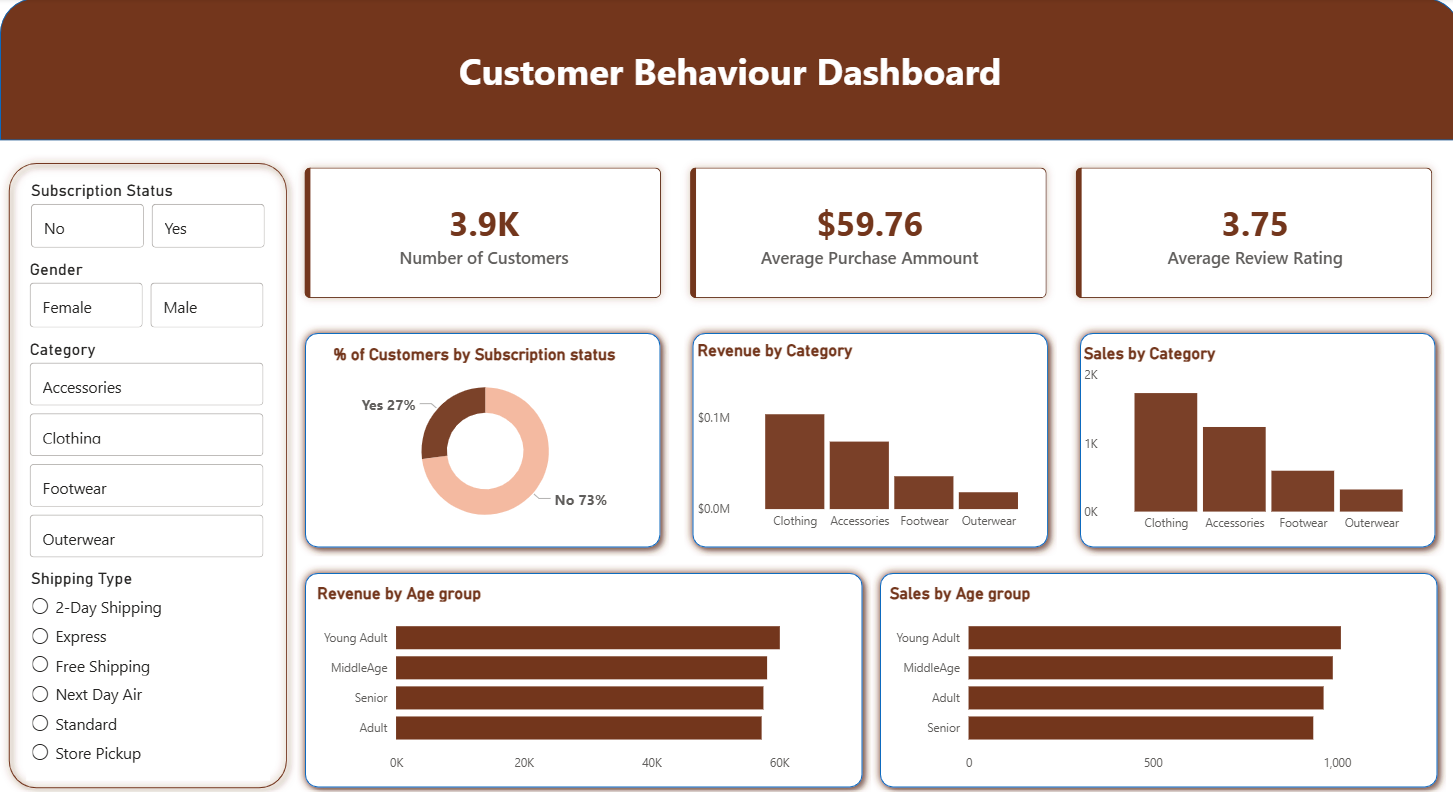

The dashboard page shown, as its layout file describes it:
{"tool":"powerbi","page":{"name":"Page 1","canvas":[1500,820],"ordinal":0},"visuals":[{"type":"cardVisual","fields":{"Data":["customer_shopping_cleaned.Number of Customers","customer_shopping_cleaned.Average Purchase Ammount","customer_shopping_cleaned.Average Review Rating"]},"box":[285.5,146.2,1214.4,190.8],"z":0},{"type":"shape","box":[0,0,1499.9,146.2],"z":1000},{"type":"textbox","box":[0,44.6,1499.9,91.9],"z":2000},{"type":"shape","box":[701.9,335.6,383,238.1],"z":3000},{"type":"shape","box":[303.6,335.6,383,238.1],"z":4000},{"type":"donutChart","title":"% of Customers by Subscription status","fields":{"Category":["customer_shopping_cleaned.Subscription Status"],"Y":["CountNonNull(customer_shopping_cleaned.Customer ID)"]},"box":[337,355.1,321.7,200.5],"z":5000},{"type":"clusteredColumnChart","title":"Revenue by Category","fields":{"Y":["Sum(customer_shopping_cleaned.Purchase Amount (USD))"],"Category":["customer_shopping_cleaned.Category"]},"box":[715.8,352.3,356.5,203.3],"z":6000},{"type":"shape","box":[1100.2,335.6,383,238.1],"z":7000},{"type":"clusteredColumnChart","title":"Sales by Category","fields":{"Y":["CountNonNull(customer_shopping_cleaned.Customer ID)"],"Category":["customer_shopping_cleaned.Category"]},"box":[1112.7,353.7,356.5,203.3],"z":8000},{"type":"shape","box":[0,160.2,303.6,660.1],"z":9000},{"type":"advancedSlicerVisual","fields":{"Values":["customer_shopping_cleaned.Subscription Status"]},"box":[26.5,188,250,75],"z":10000},{"type":"advancedSlicerVisual","fields":{"Values":["customer_shopping_cleaned.Gender"]},"box":[25.1,268.8,250.7,75.2],"z":11000},{"type":"advancedSlicerVisual","fields":{"Values":["customer_shopping_cleaned.Category"]},"box":[25.1,351,250.7,229.8],"z":12000},{"type":"listSlicer","fields":{"Values":["customer_shopping_cleaned.Shipping Type"]},"box":[26.5,584.9,250.7,218.6],"z":13000},{"type":"shape","box":[303.6,582.1,590.5,238.1],"z":14000},{"type":"clusteredBarChart","title":"Revenue by Age group","fields":{"Y":["Sum(customer_shopping_cleaned (2).purchase_amount)"],"Category":["customer_shopping_cleaned (2).age_group"]},"box":[320.3,600.2,559.9,203.3],"z":15000},{"type":"shape","box":[894.1,582.1,590.5,238.1],"z":16000},{"type":"clusteredBarChart","title":"Sales by Age group","fields":{"Y":["CountNonNull(customer_shopping_cleaned (2).customer_id)"],"Category":["customer_shopping_cleaned (2).age_group"]},"box":[909.4,600.2,559.9,203.3],"z":17000}]}

Visuals, with their boxes in screenshot pixels (x1, y1, x2, y2), scaled from the page's 1500x820 canvas onto the 1453x792 screenshot:
cardVisual - customer_shopping_cleaned.Number of Customers x customer_shopping_cleaned.Average Purchase Ammount: [277, 141, 1452, 325]
shape: [0, 0, 1452, 141]
textbox: [0, 43, 1452, 132]
shape: [680, 324, 1051, 554]
shape: [294, 324, 665, 554]
"% of Customers by Subscription status" donutChart: [326, 343, 638, 537]
"Revenue by Category" clusteredColumnChart: [693, 340, 1039, 537]
shape: [1066, 324, 1437, 554]
"Sales by Category" clusteredColumnChart: [1078, 342, 1423, 538]
shape: [0, 155, 294, 791]
advancedSlicerVisual - customer_shopping_cleaned.Subscription Status: [26, 182, 268, 254]
advancedSlicerVisual - customer_shopping_cleaned.Gender: [24, 260, 267, 332]
advancedSlicerVisual - customer_shopping_cleaned.Category: [24, 339, 267, 561]
listSlicer - customer_shopping_cleaned.Shipping Type: [26, 565, 269, 776]
shape: [294, 562, 866, 791]
"Revenue by Age group" clusteredBarChart: [310, 580, 853, 776]
shape: [866, 562, 1438, 791]
"Sales by Age group" clusteredBarChart: [881, 580, 1423, 776]
